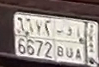2: (43, 19, 53, 61)
6: (16, 15, 26, 55), (25, 18, 35, 56)
7: (34, 17, 43, 58)
A: (74, 25, 83, 61)
B: (55, 25, 65, 59)
U: (65, 24, 73, 63)
